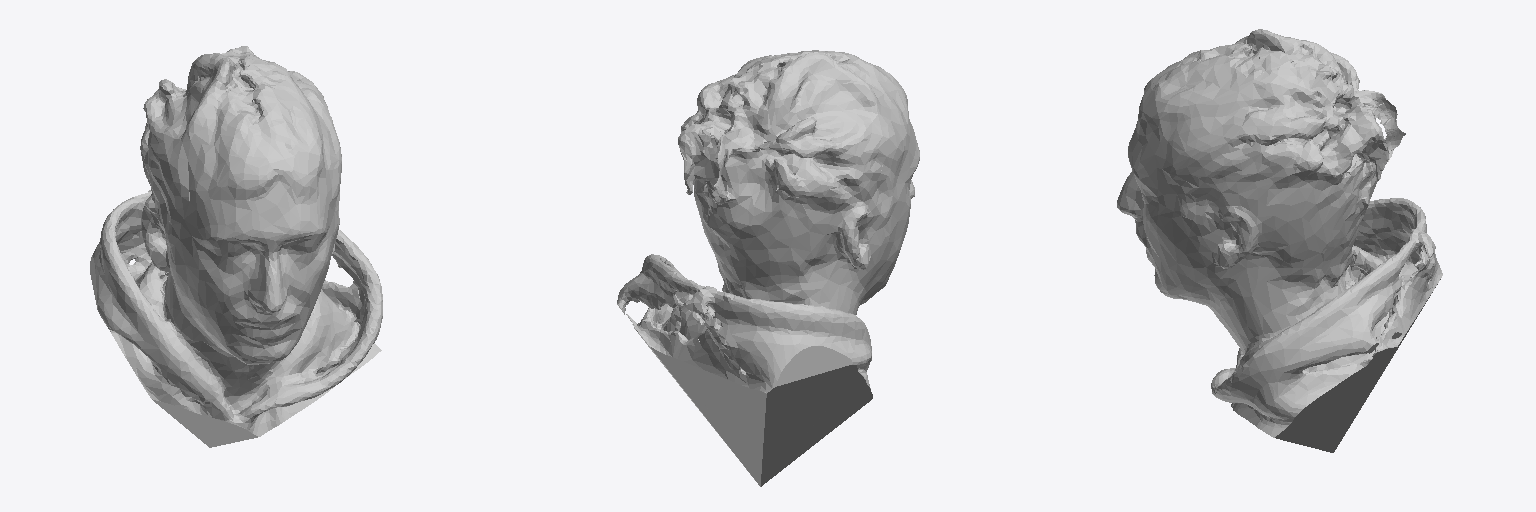
The model's file is ottino.obj.
3 renders of one model, left to right at view 1: azimuth 30°, elevation 25°; view 2: azimuth 150°, elevation 25°; view 3: azimuth 270°, elevation 25°, orthographic.
Visible parts, largest first — view 1: Icosphere; view 2: Icosphere; view 3: Icosphere.
Part boxes in pixels (x1,y1,x2,y2): Icosphere: (90, 46, 382, 447); Icosphere: (617, 50, 919, 486); Icosphere: (1117, 29, 1442, 452).
Size of the model in its own units: 0.2473 by 0.3974 by 0.2842.